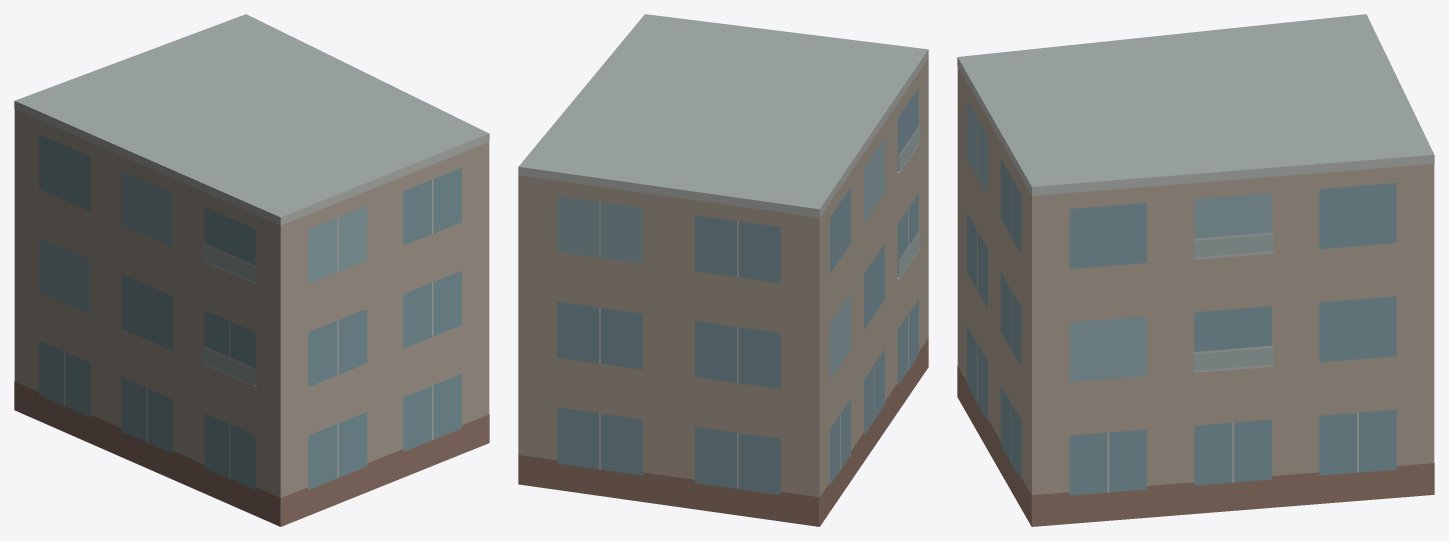
The model's file is survey-upis-32649230.glb.
The picture shows the model from 3 angles, left to right: view 1: azimuth 30°, elevation 25°; view 2: azimuth 150°, elevation 25°; view 3: azimuth 270°, elevation 25°; orthographic projection. The views are drawn at different scales.
Parts seen in each view (by area): view 1: survey-upis-32649230.tmp; view 2: survey-upis-32649230.tmp; view 3: survey-upis-32649230.tmp.
Boxes of the visible parts, x1,y1,x2,y2 form: survey-upis-32649230.tmp: [14, 14, 489, 526]; survey-upis-32649230.tmp: [518, 14, 928, 526]; survey-upis-32649230.tmp: [957, 14, 1434, 526].
Size of the model in its own units: 9.99 by 9.15 by 11.65.
